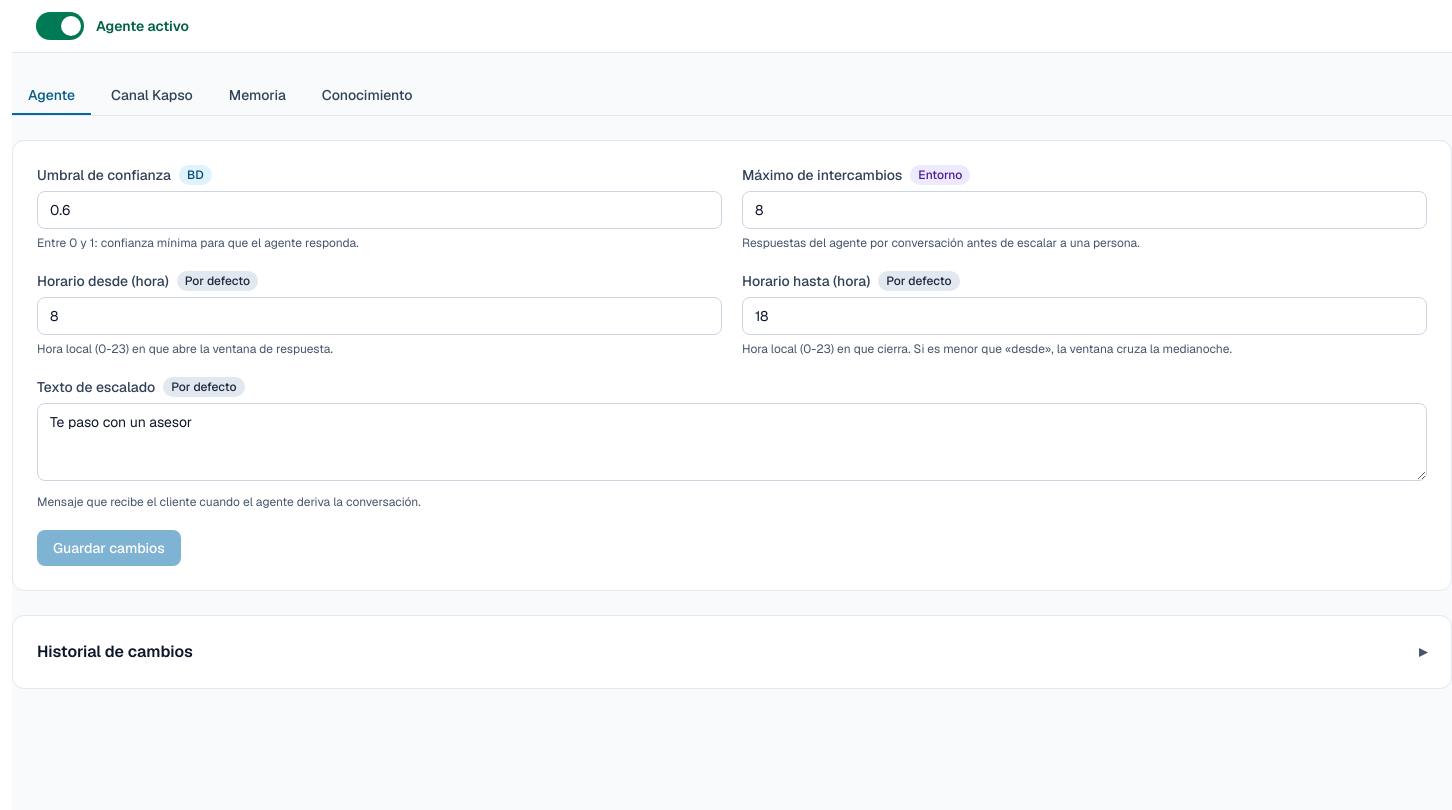
PanelConfiguracion — tab Canal Kapso › los secretos muestran máscara y badge, nunca un input con valor
Click the tab "Canal Kapso" at (152, 96), box [95, 77, 209, 115]
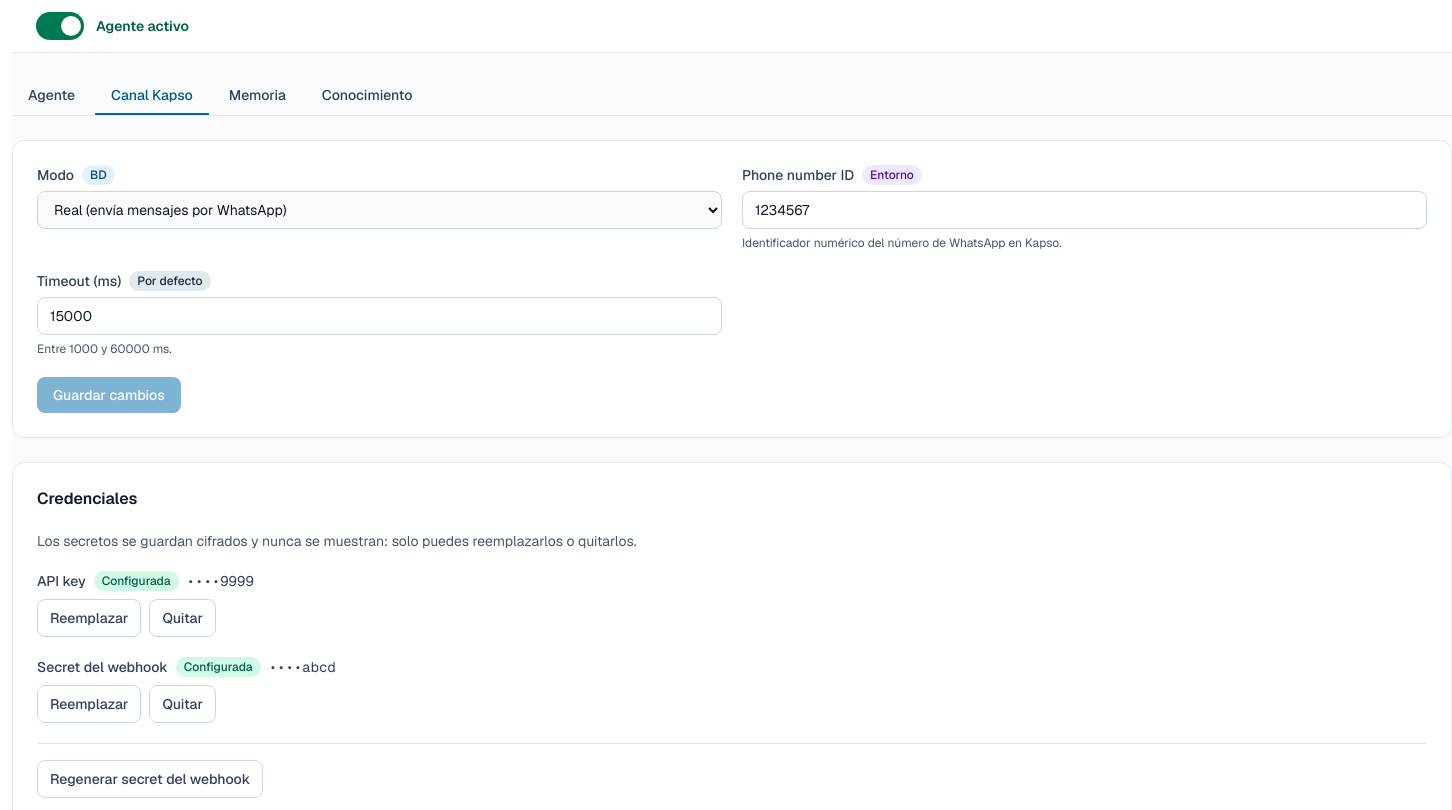
Check: the text "••••9999" is shown, box [187, 571, 254, 591]
Check: the text "••••abcd" is shown, box [269, 657, 336, 677]
Check: the field labelled "Phone number ID" holds "1234567", box [742, 191, 1427, 229]
